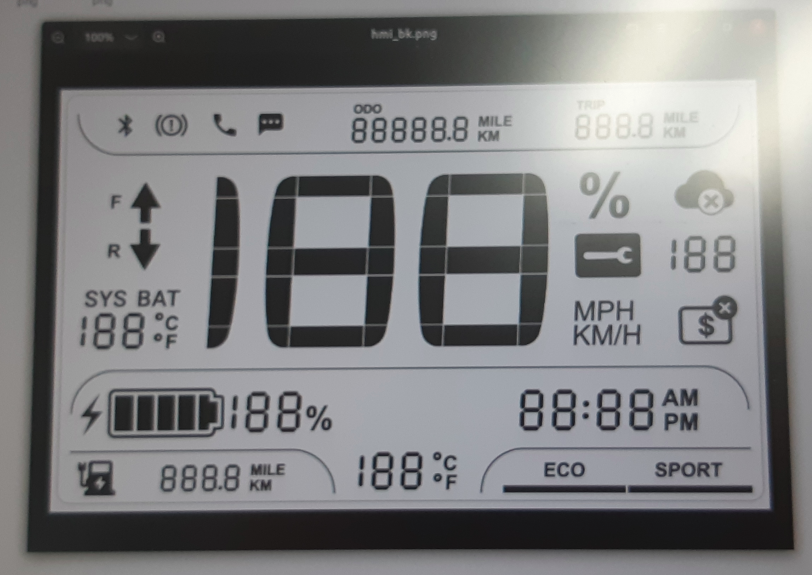bluetooth_on: (113, 110, 138, 141)
braking_on: (151, 110, 191, 142)
calling_on: (210, 110, 240, 139)
connection_lost: (670, 166, 738, 218)
error_code: (572, 230, 644, 281)
low_battery: (74, 456, 120, 499)
sms_on: (255, 110, 286, 139)
vin_id: (675, 292, 740, 350)
